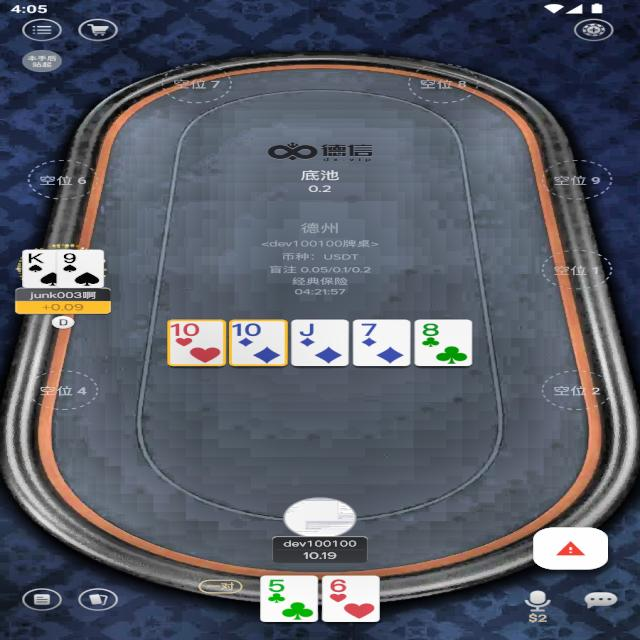10f: (234, 322, 263, 338)
10h: (171, 323, 201, 338)
5m: (263, 576, 291, 593)
6h: (326, 577, 352, 593)
7f: (357, 321, 380, 337)
8m: (419, 321, 443, 338)
9s: (61, 251, 81, 265)
Jf: (296, 320, 318, 338)
Ks: (24, 251, 50, 265)
